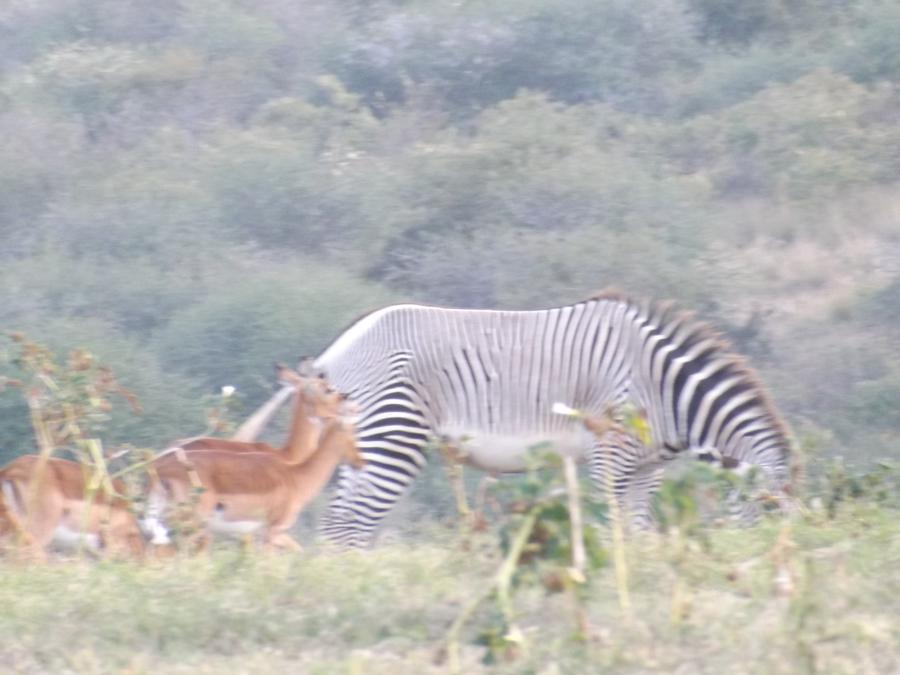zebra_grevys: (308, 287, 661, 471)
